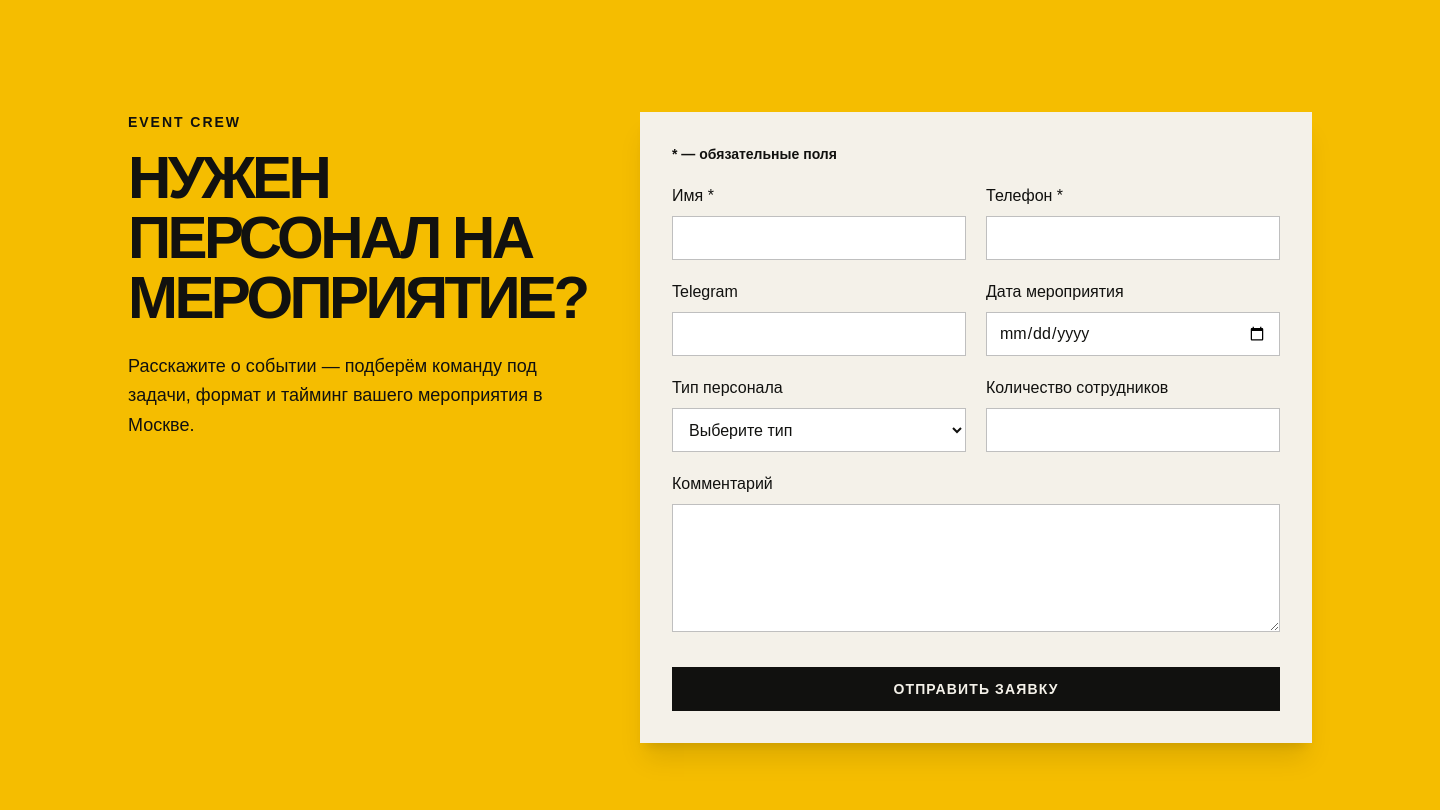
Test: ContactForm › shows linked required-field errors without submitting empty data
What coordinates should you click on to do the following:
click the button "Отправить заявку"
I would click on:
 (976, 689)
Its box is [672, 667, 1280, 711].
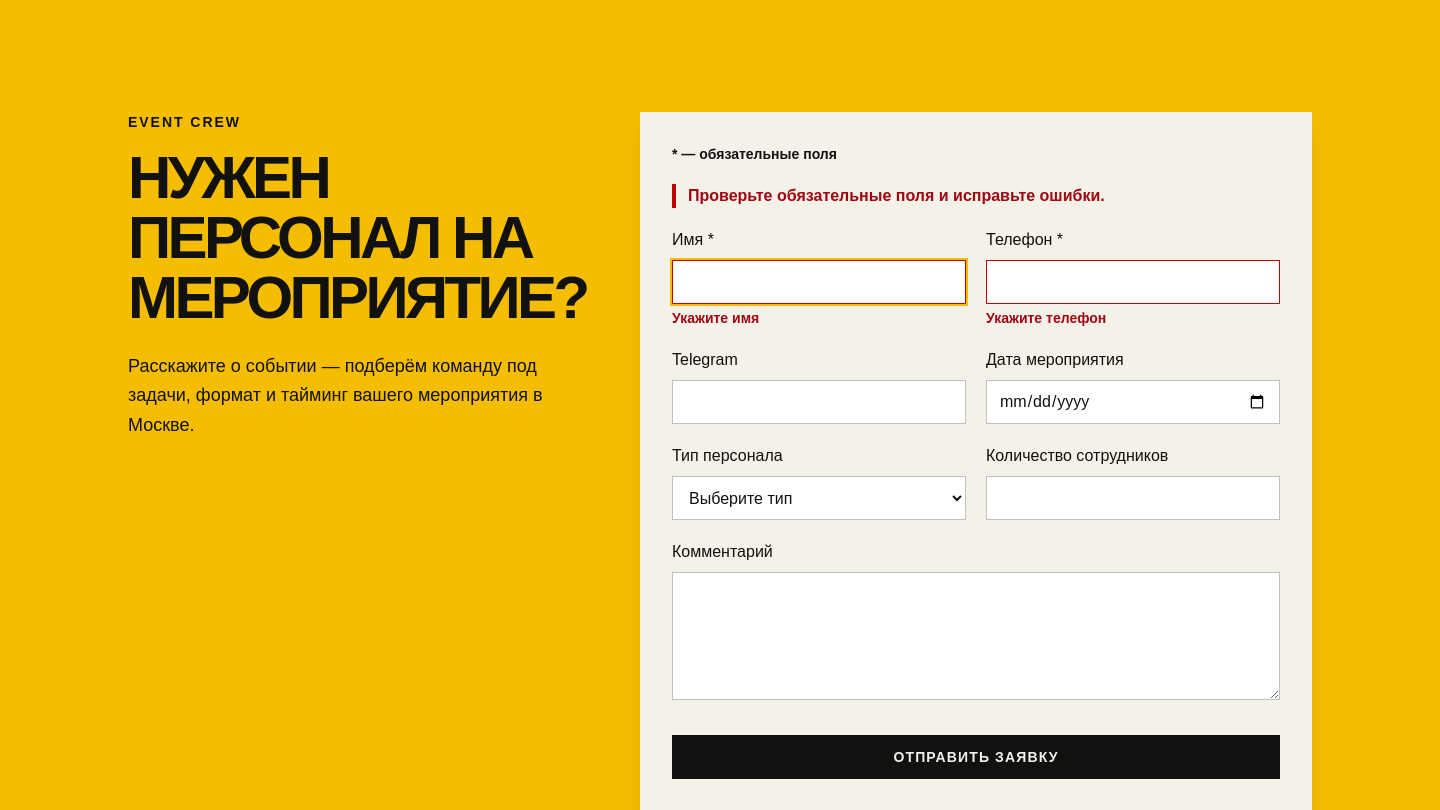
Expected: the message shows "Проверьте обязательные поля", [688, 187, 1105, 204]
